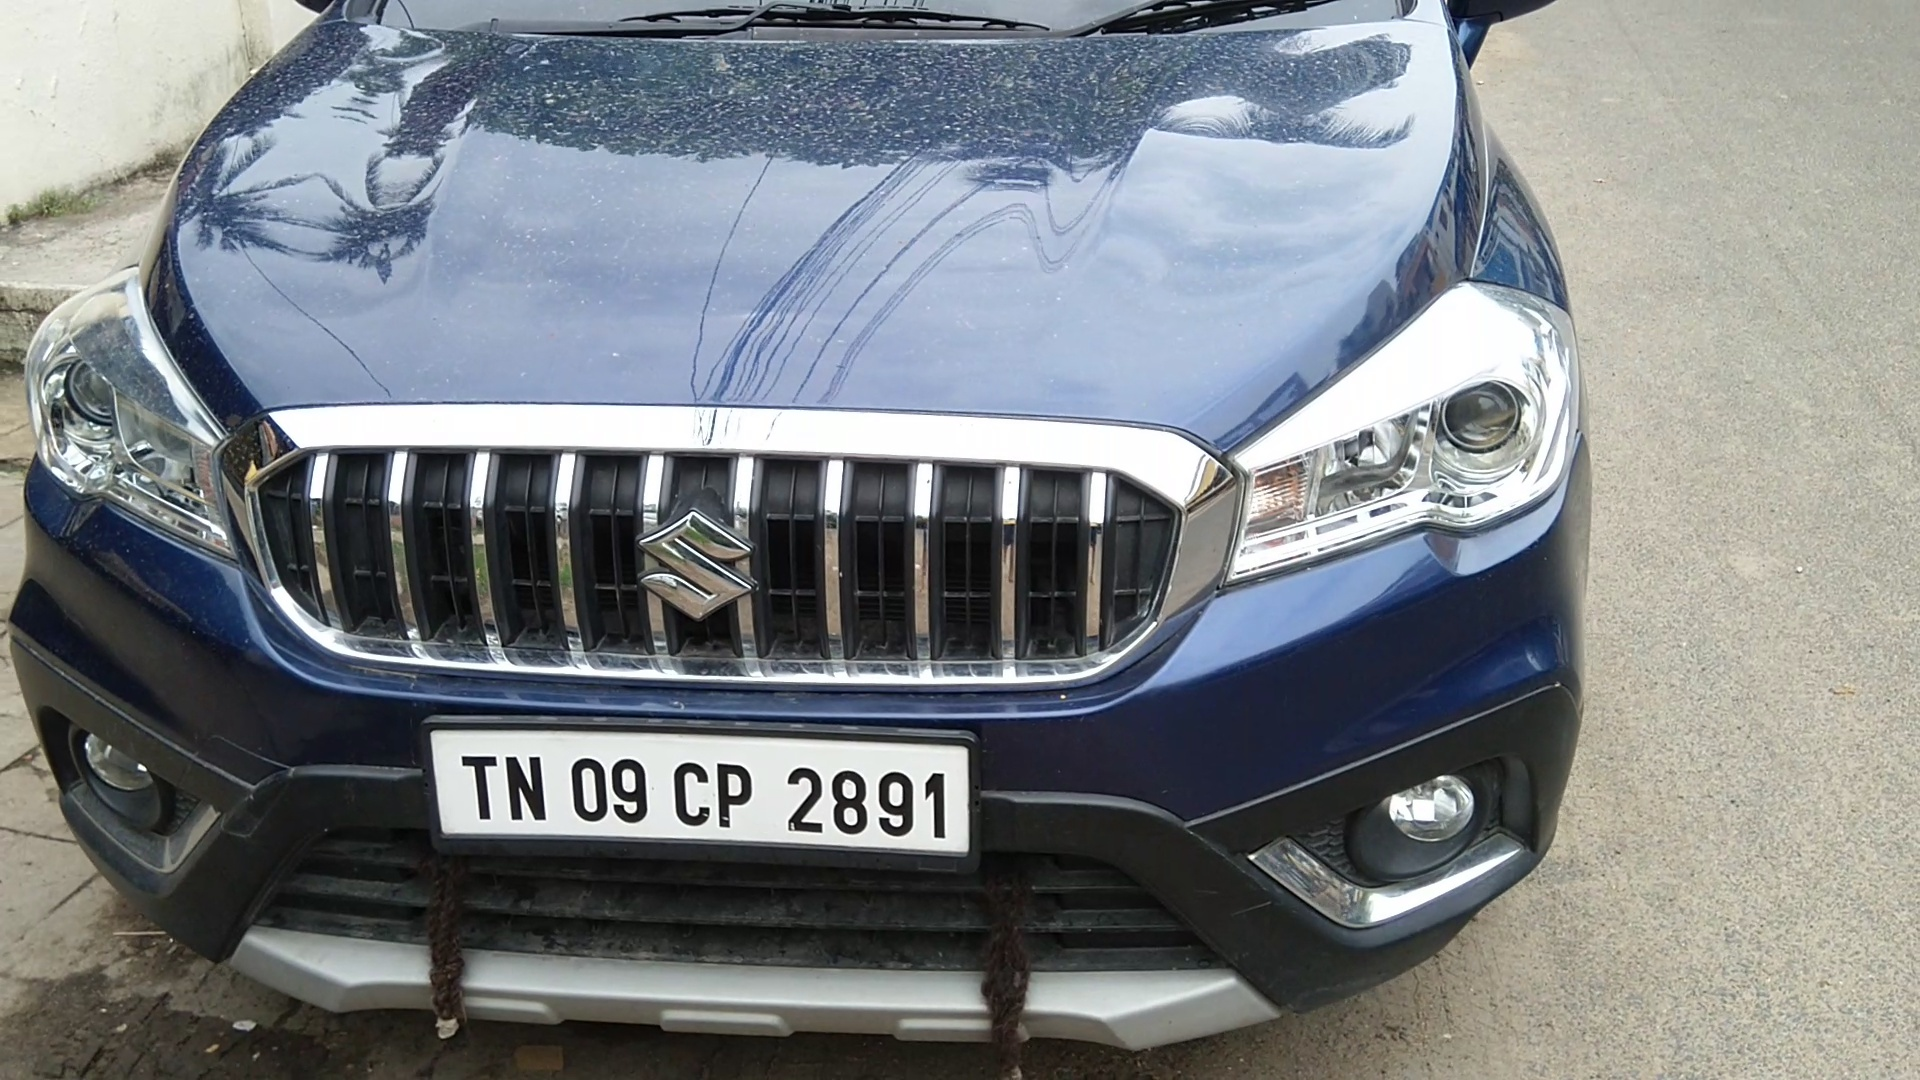front_grill: (225, 392, 1236, 700)
headlamp: (1236, 276, 1588, 655), (22, 261, 232, 560)
